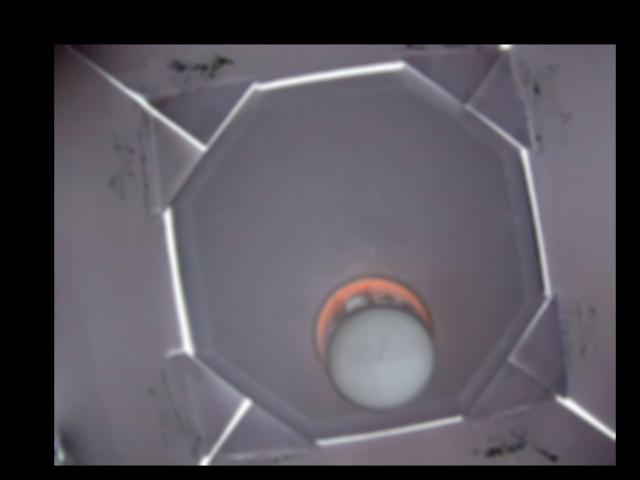Cup: (313, 272, 437, 410)
